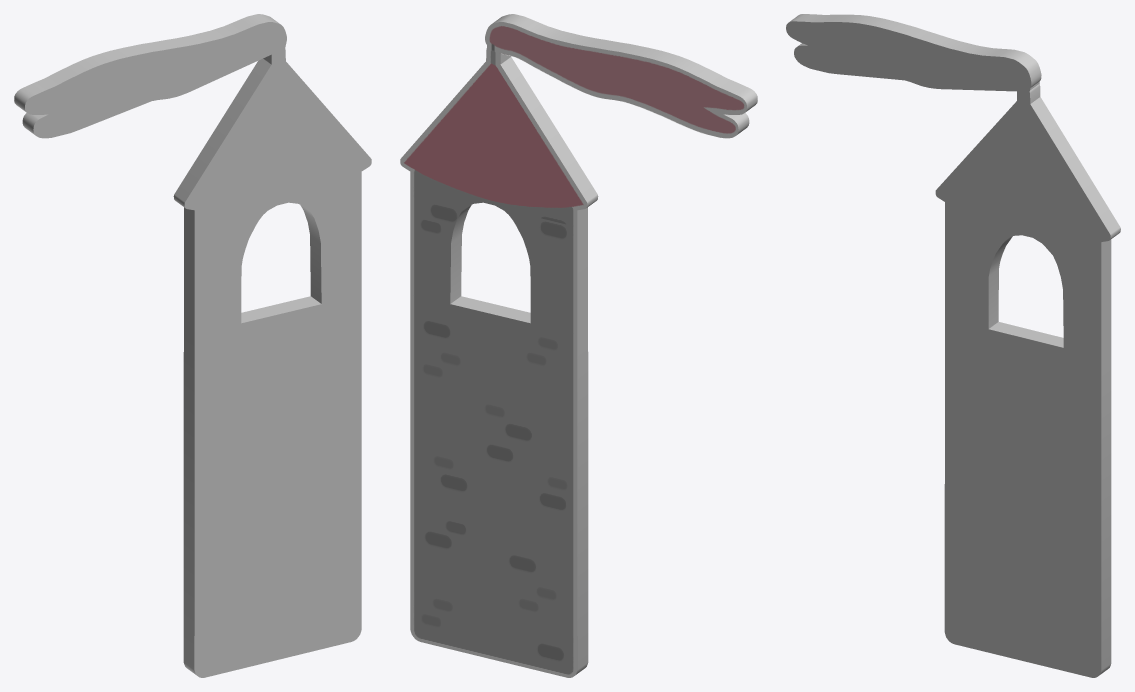
Rendered from princessTowerSinking.fbx.
The picture shows the model from 3 angles, left to right: view 1: azimuth 30°, elevation 25°; view 2: azimuth 150°, elevation 25°; view 3: azimuth 330°, elevation 25°; orthographic projection. The views are drawn at different scales.
Visible parts, largest first — view 1: princessTower; view 2: princessTower; view 3: princessTower.
Boxes of the visible parts, left/top/right/bottom form: princessTower: left=14, top=14, right=371, bottom=677; princessTower: left=400, top=14, right=757, bottom=677; princessTower: left=786, top=14, right=1120, bottom=677.
Size of the model in its own units: 804 by 1419 by 43.51.
